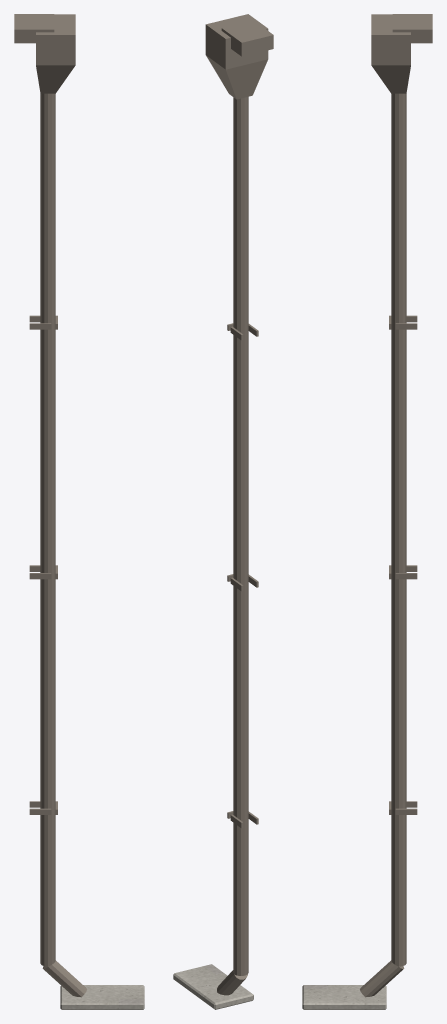
Rendered from downspout.glb.
3 renders of one model, left to right at view 1: azimuth 90°, elevation 25°; view 2: azimuth 210°, elevation 25°; view 3: azimuth 270°, elevation 25°, orthographic.
Visible parts, largest first — view 1: downspout_alu, downspout_concrete; view 2: downspout_alu, downspout_concrete; view 3: downspout_alu, downspout_concrete.
Part boxes in pixels (x1,y1,x2,y2): downspout_alu: [14, 14, 86, 997]; downspout_concrete: [60, 985, 144, 1009]; downspout_alu: [205, 14, 273, 995]; downspout_concrete: [173, 964, 253, 1009]; downspout_alu: [360, 14, 432, 997]; downspout_concrete: [302, 985, 386, 1009].
Bounding box in the file's own units: 0.32 × 7.06 × 0.85.
2 materials, 1 textured.
